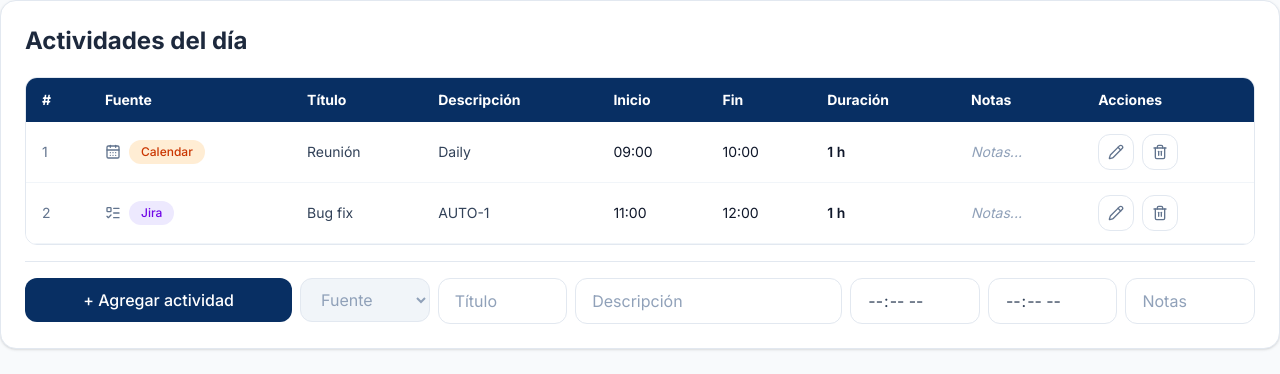
Scenario: ActivitiesTable › edits an activity and saves the new values
The width and height of the screenshot is (1280, 374).
Click the button named "editar actividad" in the row of "Calendar" at (1116, 152), box [1098, 134, 1134, 170]
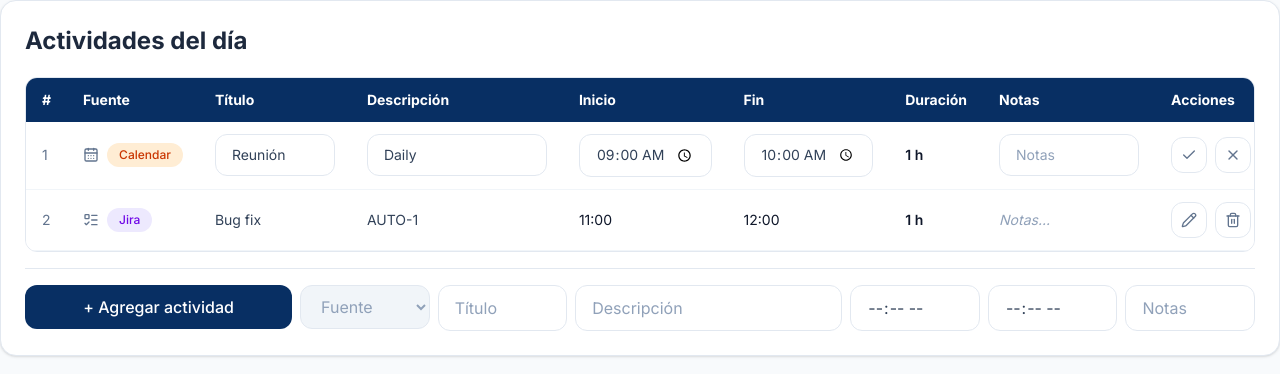
Replace the text in the 1st field with placeholder "Título" with "Reunión editada" at (275, 155), box [215, 134, 335, 176]
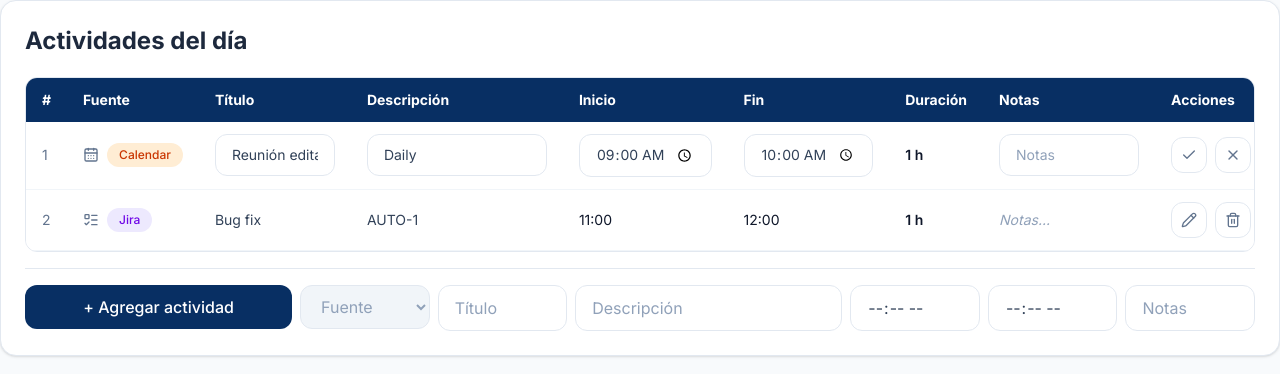
Click the button named "guardar edición" at (1189, 155), box [1171, 137, 1207, 173]
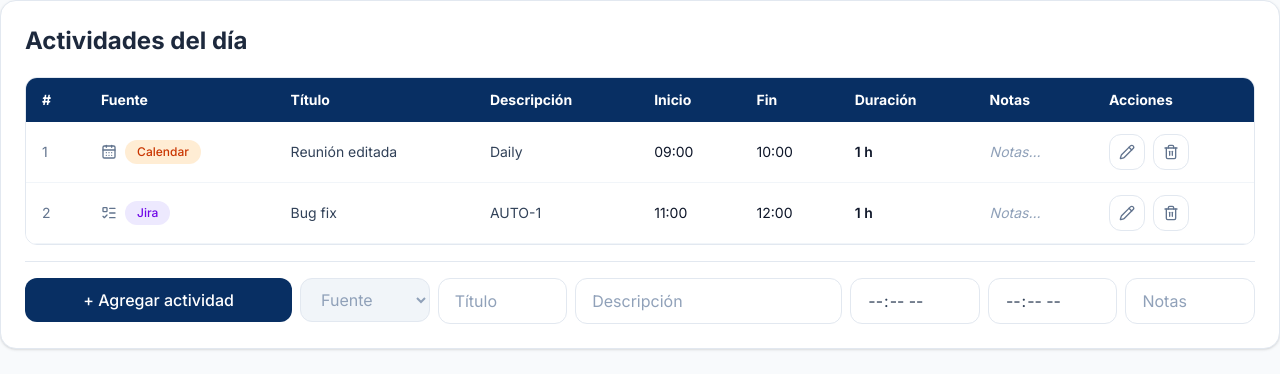
Expected: the text "Reunión editada" is shown, [291, 143, 397, 160]
